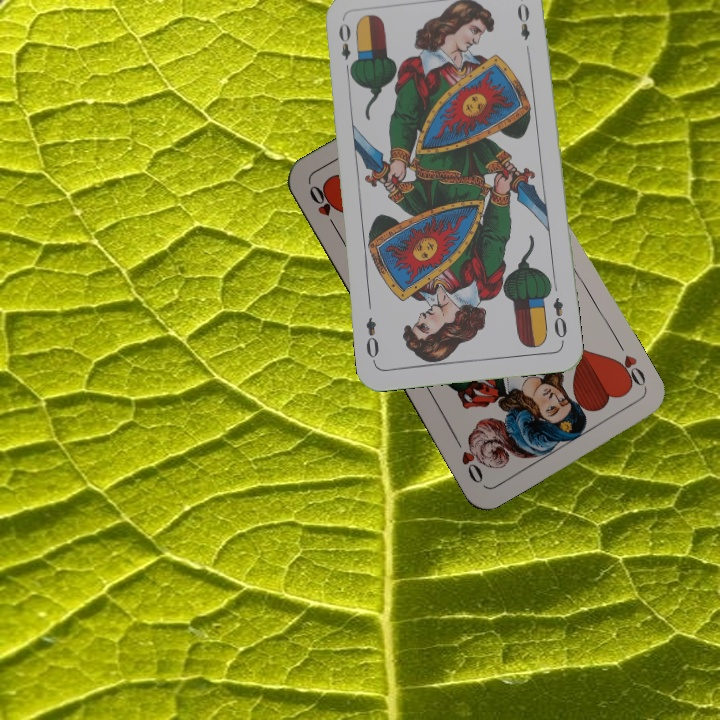EO: (334, 19, 357, 77), (549, 294, 570, 346)
HO: (305, 181, 341, 235), (609, 350, 649, 392)
